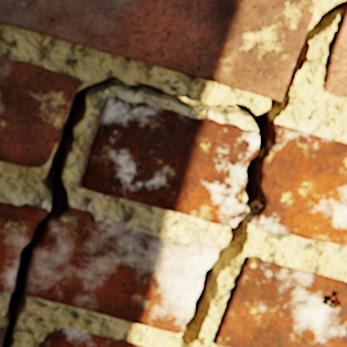brick: (0, 0, 317, 100), (214, 255, 346, 346), (0, 56, 80, 166), (323, 2, 346, 97), (38, 327, 148, 346), (0, 316, 8, 346)
broken_brick: (26, 206, 219, 332), (81, 96, 257, 225), (250, 123, 346, 245), (0, 201, 48, 292)
crack: (2, 0, 346, 346), (321, 289, 339, 306)
